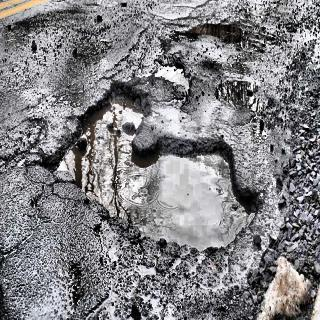pothole: (17, 96, 264, 262), (145, 30, 191, 93), (187, 15, 252, 53), (214, 74, 258, 117)
